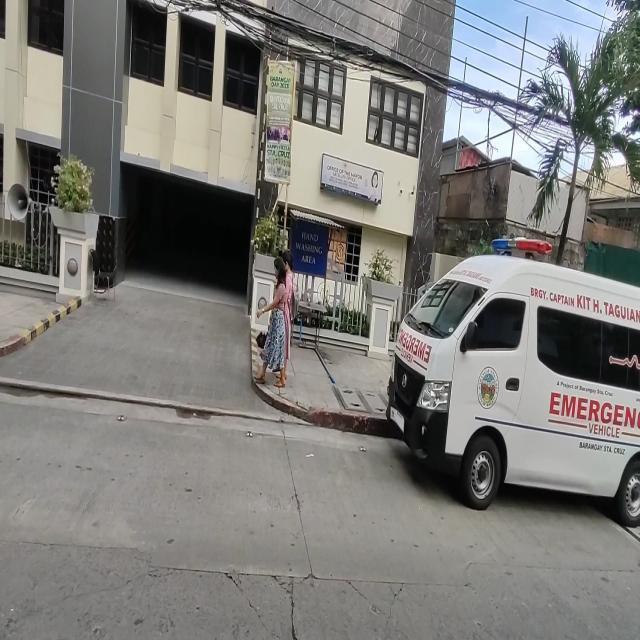emergency-vehicle: (378, 231, 640, 529), (542, 378, 640, 466), (392, 322, 434, 373)
